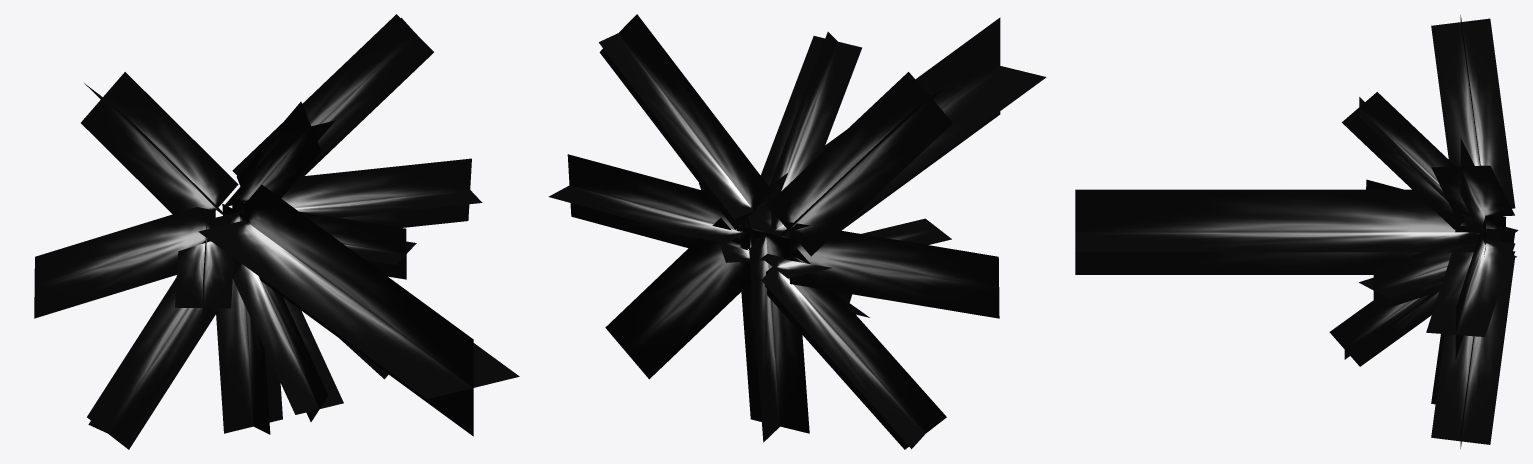
The model's file is Bullet_4_Mesh.FBX.
The picture shows the model from 3 angles, left to right: view 1: azimuth 30°, elevation 25°; view 2: azimuth 150°, elevation 25°; view 3: azimuth 270°, elevation 25°; orthographic projection. The views are drawn at different scales.
Parts seen in each view (by area): view 1: Bullet_4_Mesh; view 2: Bullet_4_Mesh; view 3: Bullet_4_Mesh.
Boxes of the visible parts, bbox=[...] form: Bullet_4_Mesh: bbox=[34, 14, 519, 449]; Bullet_4_Mesh: bbox=[548, 14, 1046, 449]; Bullet_4_Mesh: bbox=[1075, 15, 1518, 448].
Size of the model in its own units: 170 by 144 by 169.
